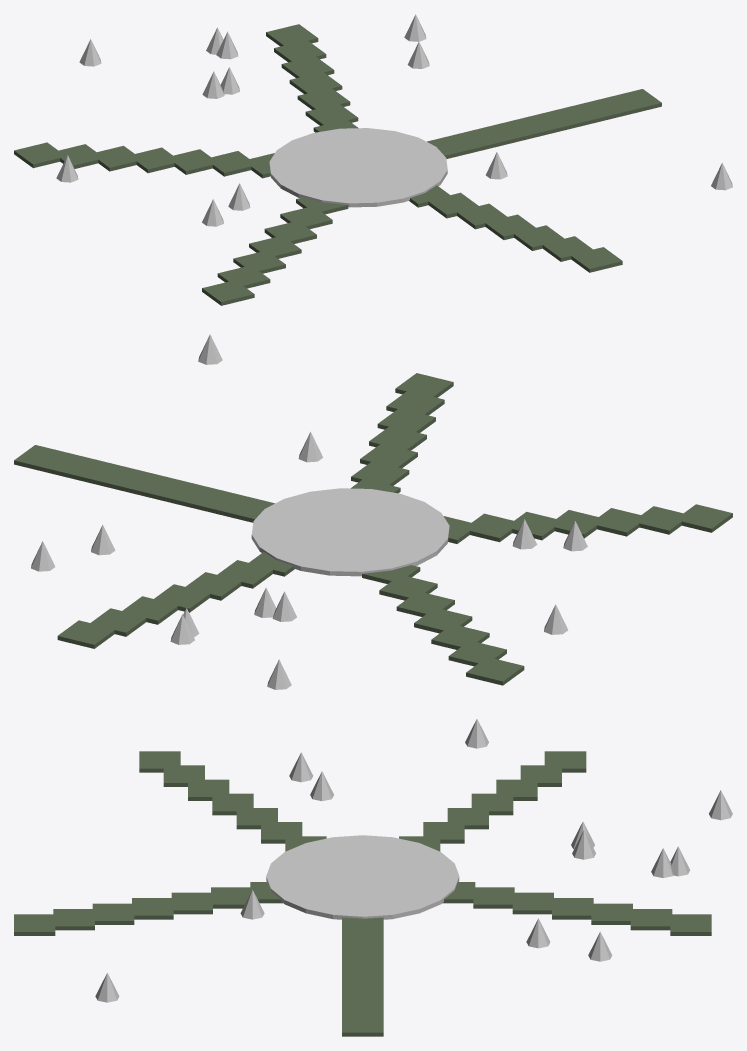
The model's file is layout_main.obj.
3 renders of one model, top to bottom at view 1: azimuth 30°, elevation 25°; view 2: azimuth 150°, elevation 25°; view 3: azimuth 270°, elevation 25°, orthographic. The views are drawn at different scales.
Visible parts, largest first — view 1: paths, plaza, scatter; view 2: paths, plaza, scatter; view 3: paths, plaza, scatter.
Part boxes in pixels (x1,y1,x2,y2): paths: (14,24,661,305); plaza: (269,128,447,207); scatter: (56,14,732,226); paths: (14,373,732,685); plaza: (251,488,449,576); scatter: (31,334,587,689); paths: (14,751,711,1036); plaza: (266,835,459,919); scatter: (95,719,732,1002).
Size of the model in its own units: 48.76 by 3.08 by 52.11.
